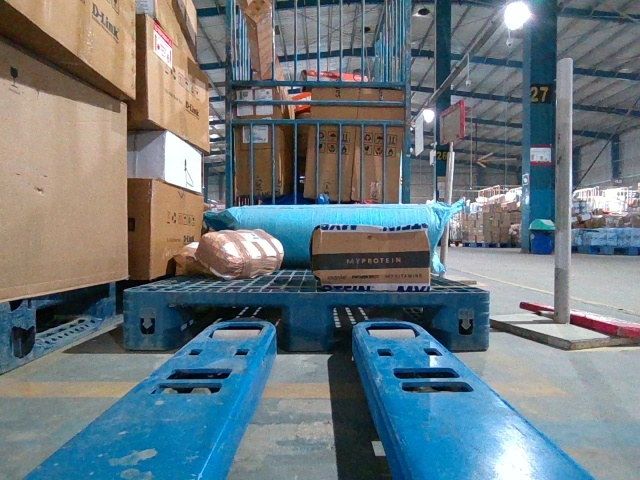block: (281, 293, 334, 352), (443, 291, 491, 350), (124, 289, 167, 350)
front: (121, 290, 490, 349)
hole pallet: (167, 302, 289, 351), (332, 302, 446, 351)
